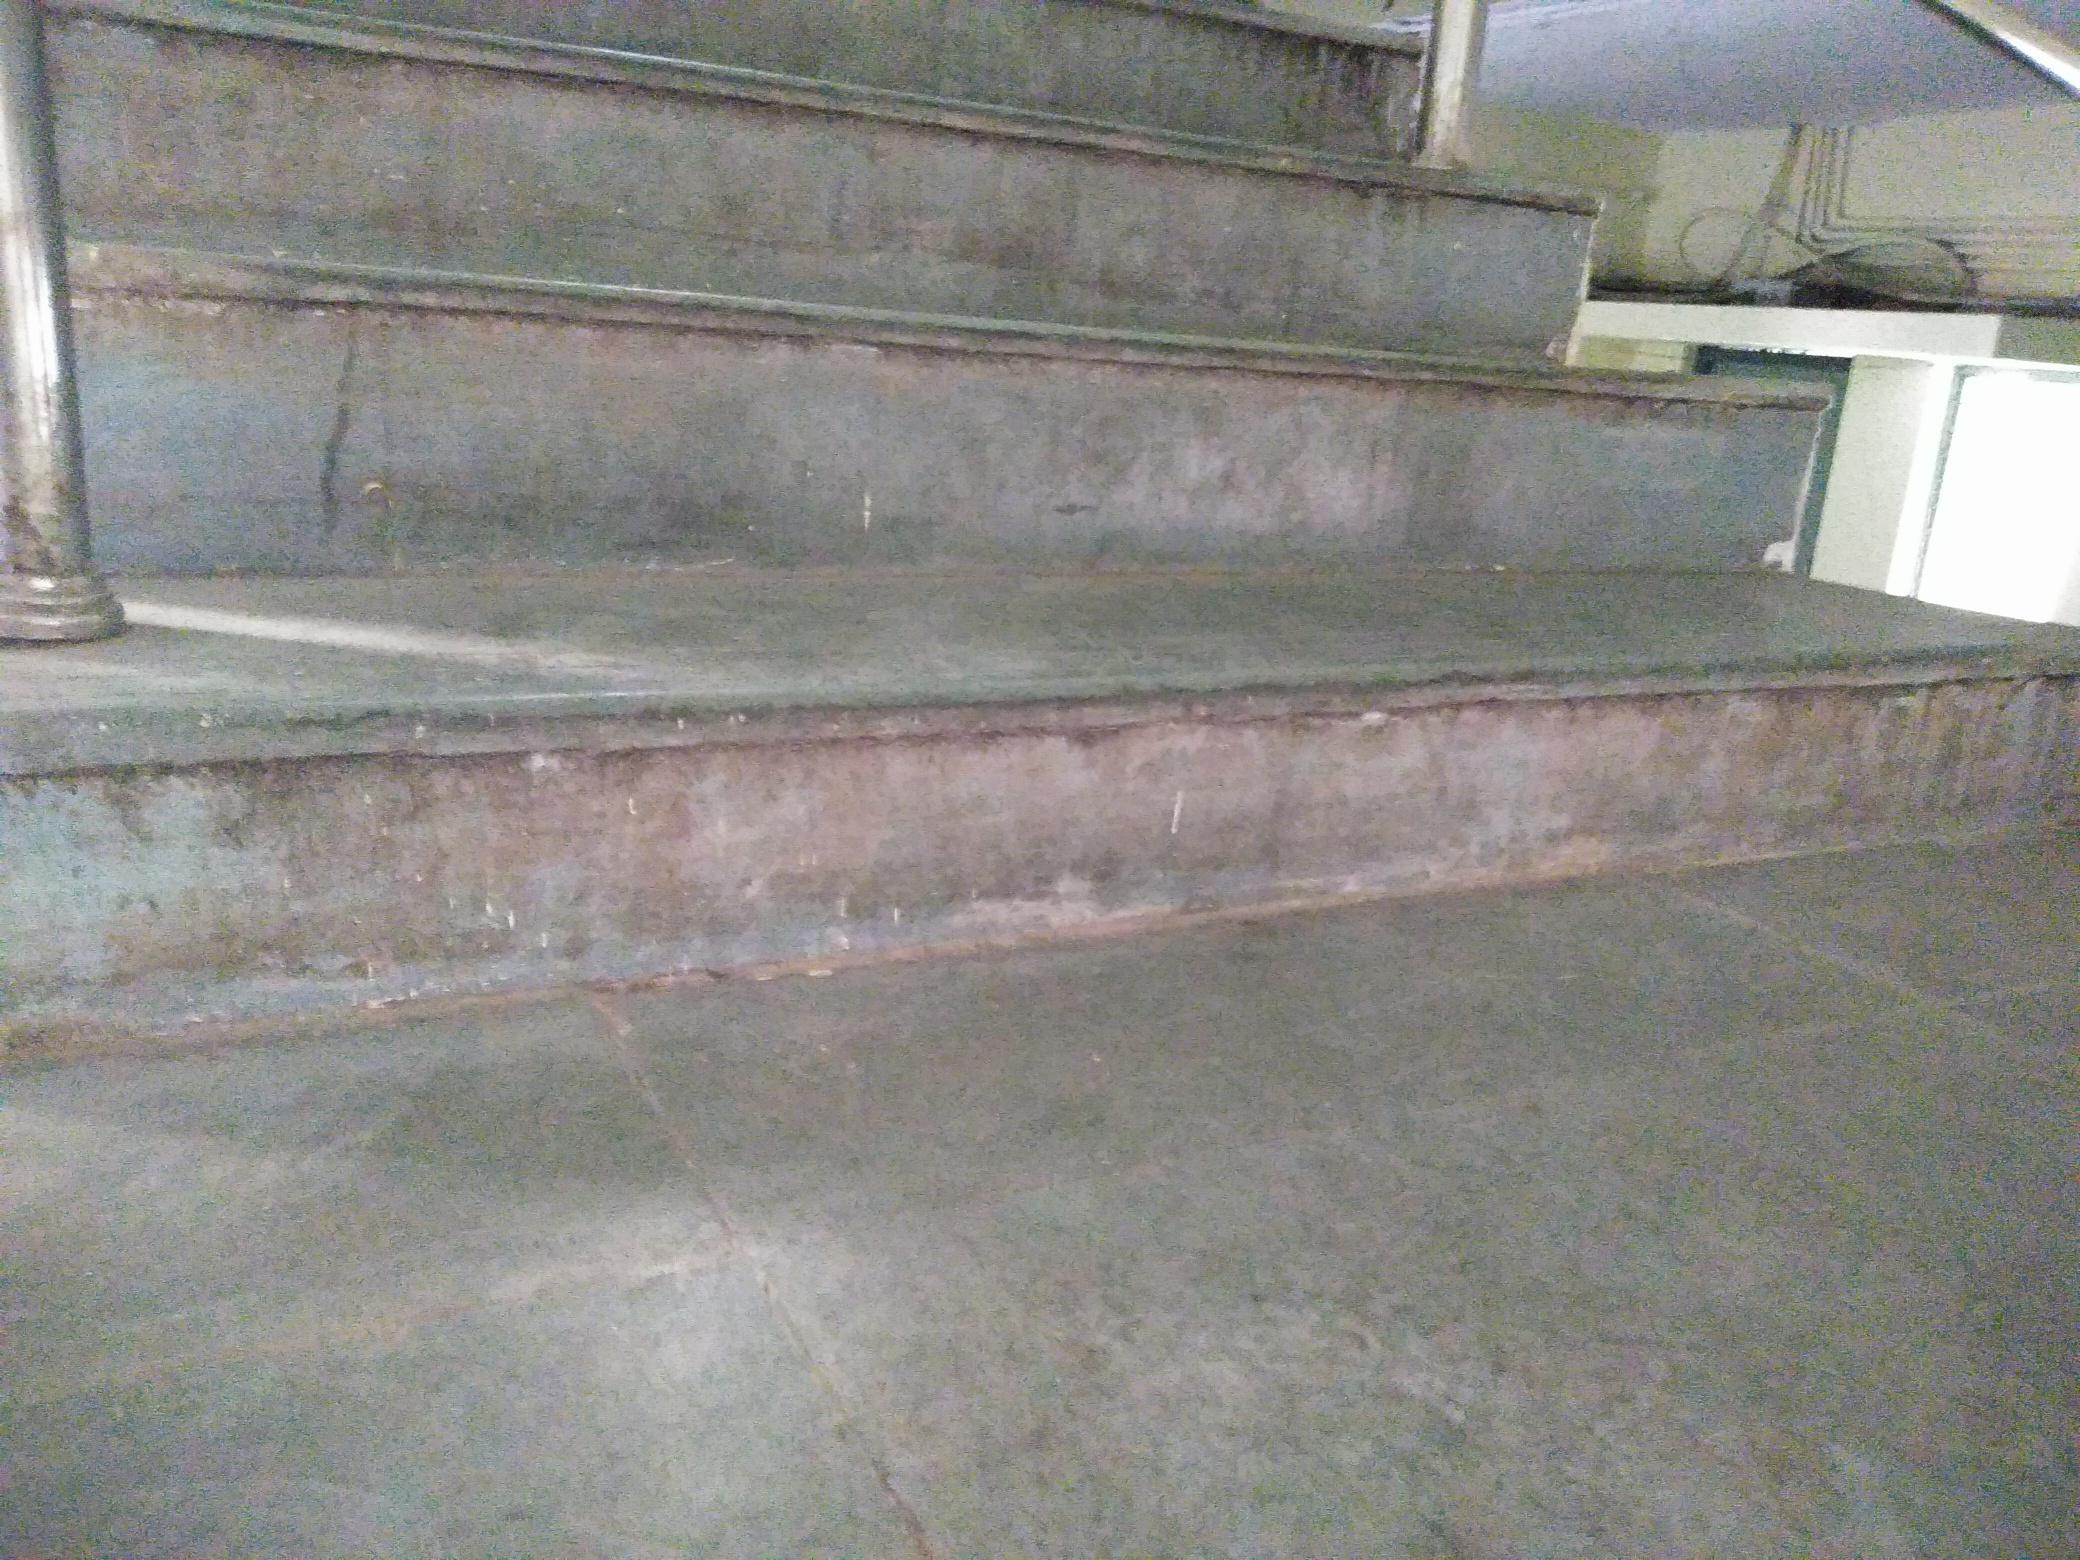stairs_up: (54, 29, 2021, 944)
